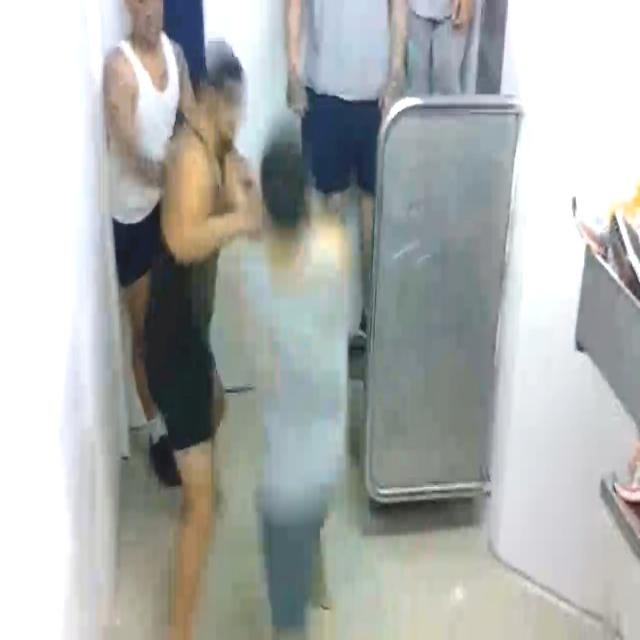fight: (140, 49, 362, 640)
